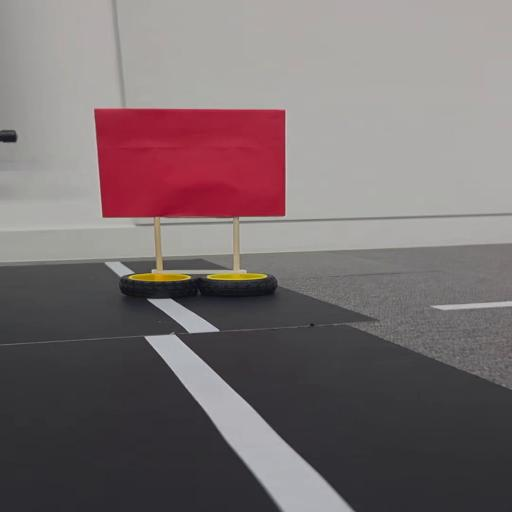Sign_A: (90, 104, 298, 298)
